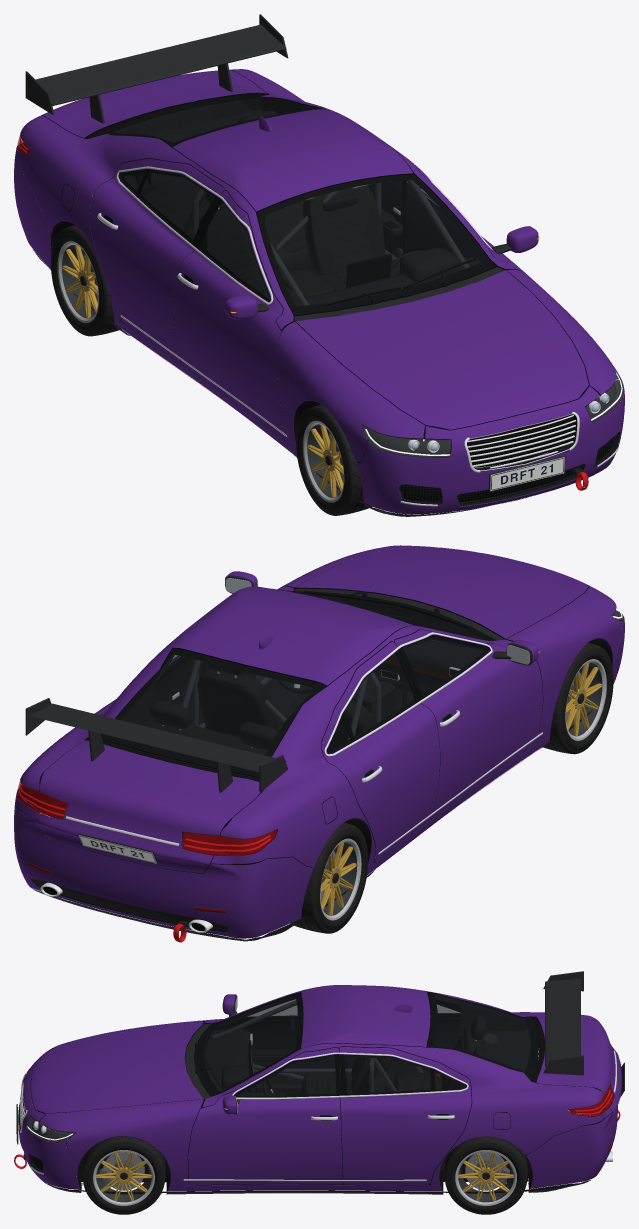
File: drift-sedan.glb
The picture shows the model from 3 angles, top to bottom: view 1: azimuth 30°, elevation 25°; view 2: azimuth 150°, elevation 25°; view 3: azimuth 270°, elevation 25°; orthographic projection. The views are drawn at different scales.
Visible parts, largest first — view 1: Body, Wheel_FR, Wheel_RR; view 2: Body, Wheel_RR, Wheel_FR; view 3: Body, Wheel_FL, Wheel_RL.
Part boxes in pixels (x1=…): Body: x1=14, y1=14, x2=624, y2=516; Wheel_FR: x1=296, y1=404, x2=372, y2=515; Wheel_RR: x1=51, y1=225, x2=121, y2=336; Body: x1=14, y1=545, x2=624, y2=942; Wheel_RR: x1=290, y1=822, x2=368, y2=933; Wheel_FR: x1=542, y1=642, x2=613, y2=754; Body: x1=14, y1=971, x2=624, y2=1194; Wheel_FL: x1=82, y1=1136, x2=165, y2=1214; Wheel_RL: x1=444, y1=1136, x2=527, y2=1214.
Bounding box in the file's own units: 2.17 × 1.5 × 5.03.
Materials: 63 (13 with a texture image).
